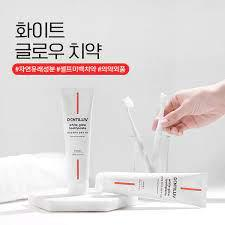toothpaste: (95, 169, 213, 208), (55, 75, 90, 191)
